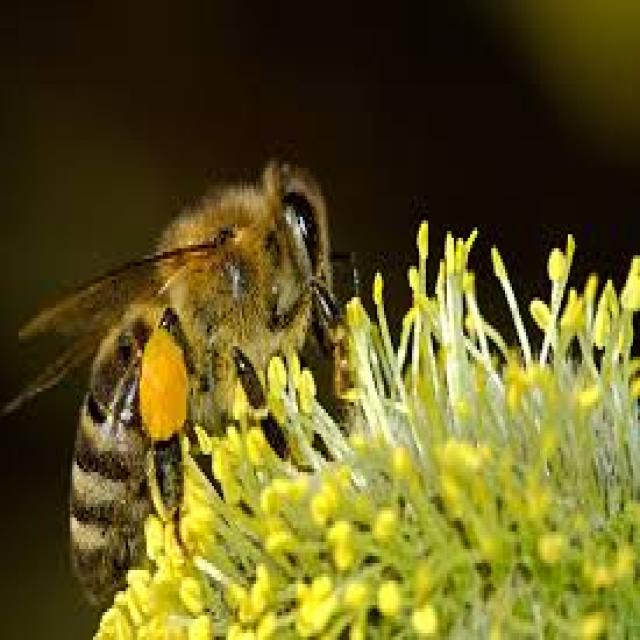Bees: (0, 162, 358, 602)
